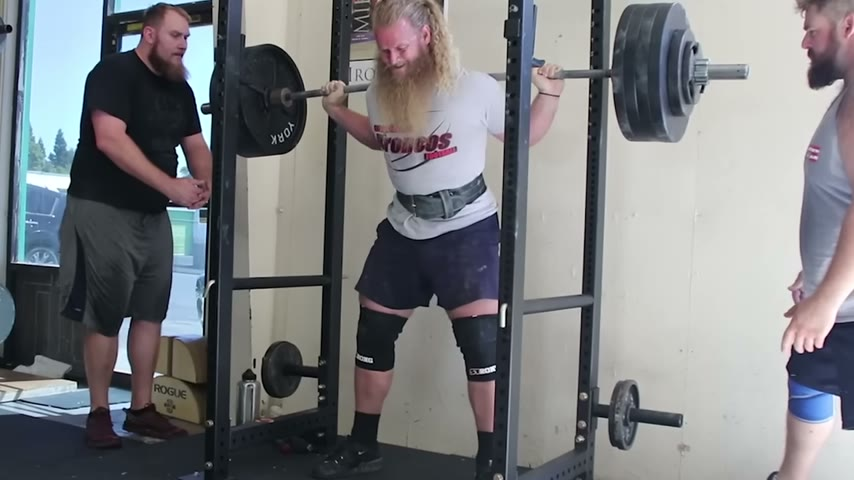barbell_plate_side: (667, 2, 754, 150), (495, 5, 577, 151), (601, 376, 688, 454)
